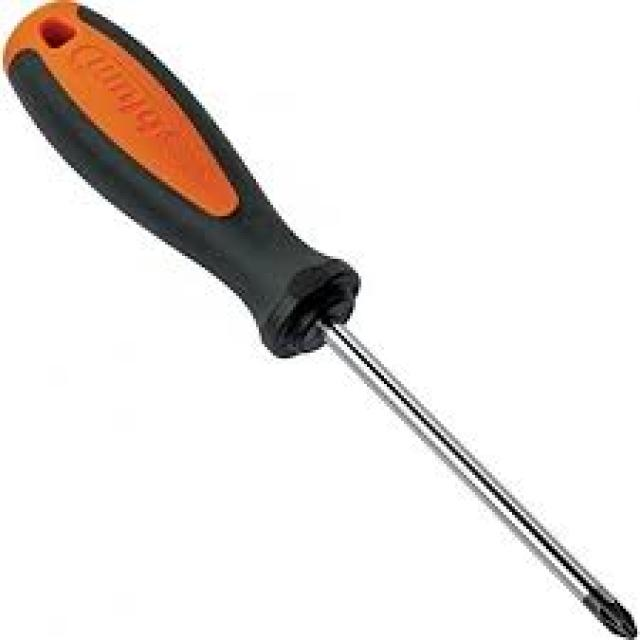Screwdriver: (2, 0, 636, 640)
